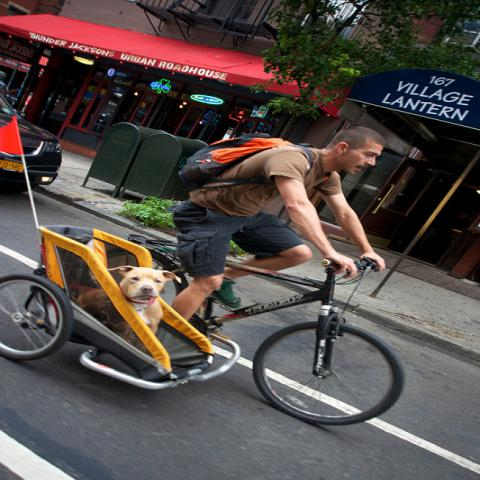car: (1, 89, 65, 193)
